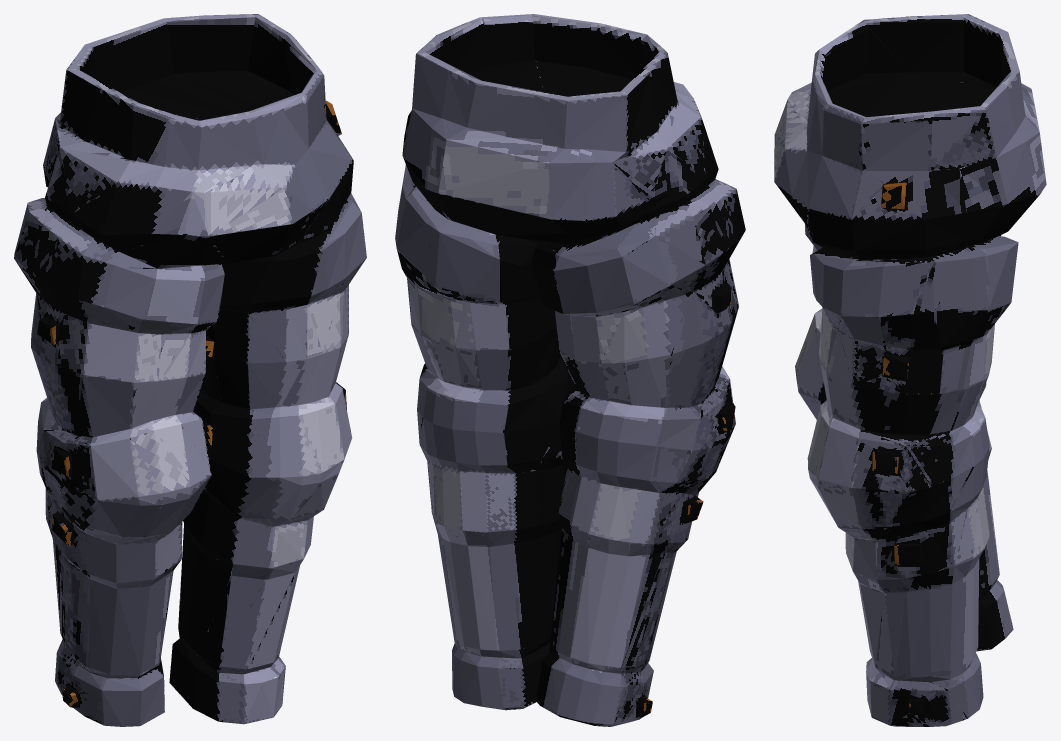
The picture shows the model from 3 angles, left to right: view 1: azimuth 30°, elevation 25°; view 2: azimuth 150°, elevation 25°; view 3: azimuth 270°, elevation 25°; orthographic projection. The views are drawn at different scales.
Parts seen in each view (by area): view 1: OBJ025; view 2: OBJ025; view 3: OBJ025.
Part boxes in pixels (left/top/right/bottom): OBJ025: left=14, top=14, right=366, bottom=726; OBJ025: left=395, top=14, right=745, bottom=726; OBJ025: left=774, top=14, right=1046, bottom=726.
Bounding box in the file's own units: 0.2201 × 0.4362 × 0.1698.
Materials: 1 (1 with a texture image).
